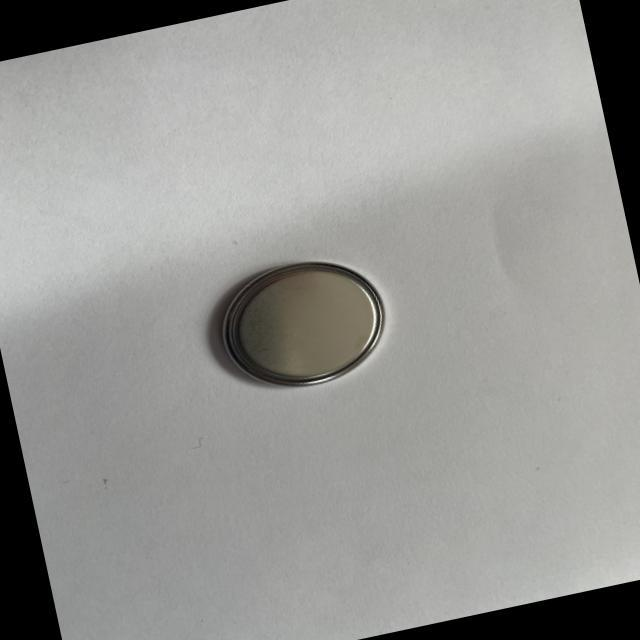COIN: (202, 244, 400, 404)
